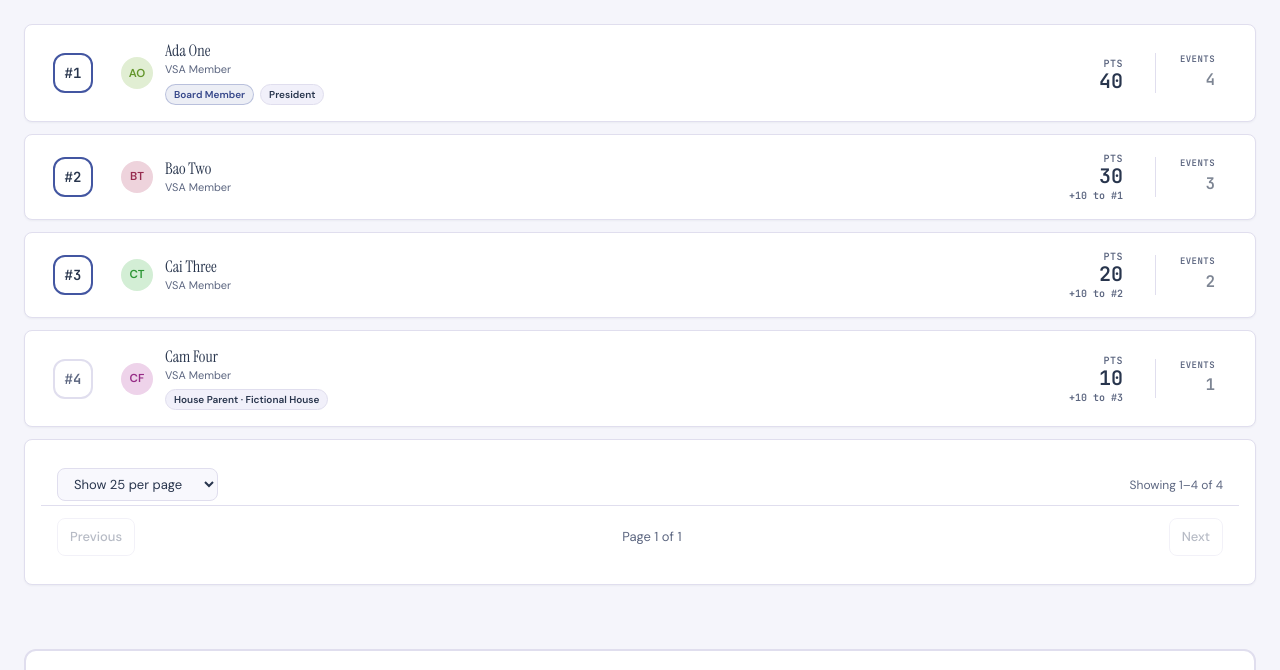
Test: rank 4+ modal House and role navigation (#627) › deduplicates a House Parent role destination and the House affiliation link
(page scrolled)
Click the button with aria-label "Open profile for Cam Four": click(191, 357) [165,347,218,367]
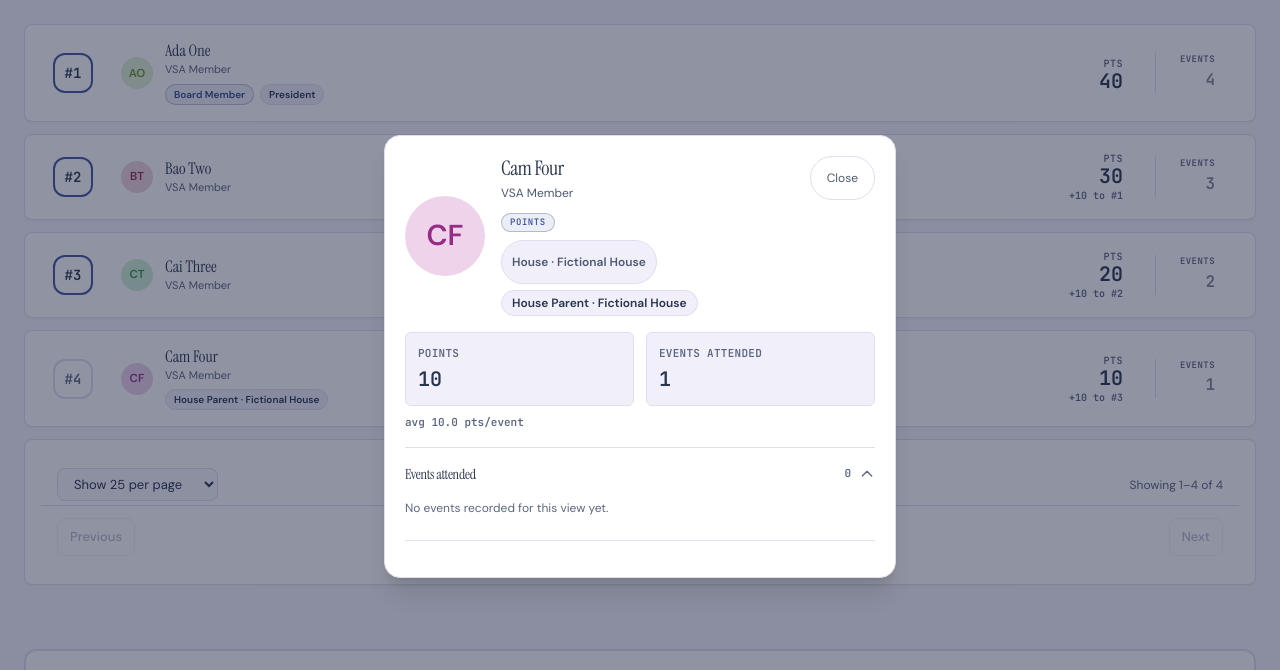
Expected: the link with aria-label "Open Fictional House House page" is shown, [501,240,657,284]
Expected: the text "House Parent · Fictional House" is shown, [501,290,698,316]
